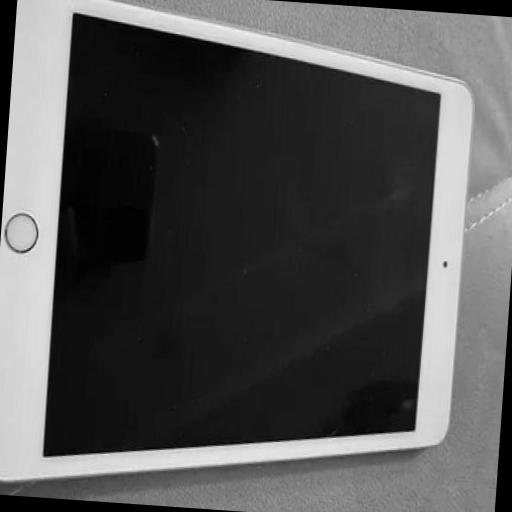phone: (0, 0, 480, 479)
